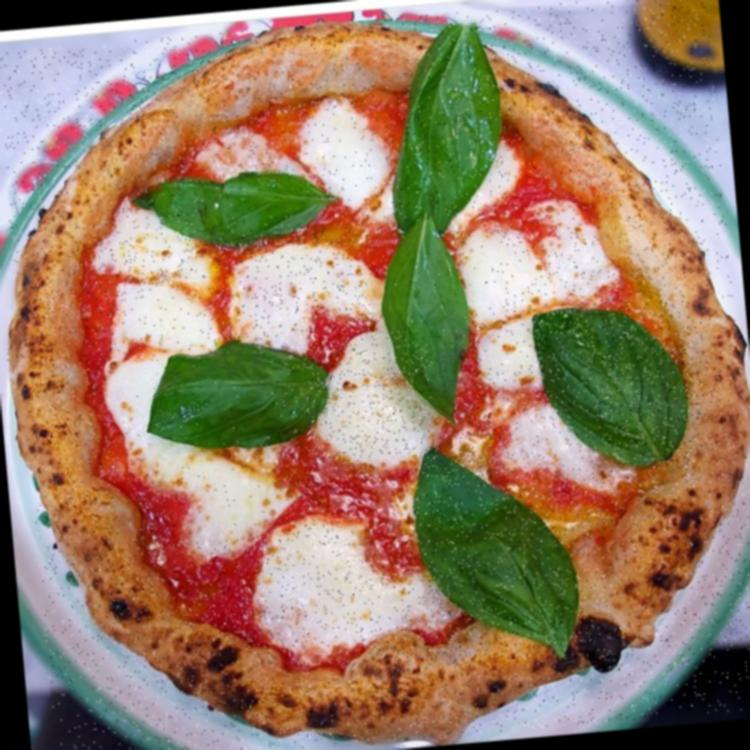Basil: (409, 438, 593, 667), (534, 296, 704, 475), (374, 13, 503, 240), (135, 334, 342, 456), (374, 216, 474, 417), (128, 166, 340, 244)
Cheese: (105, 352, 286, 548), (248, 516, 427, 653), (302, 330, 436, 462), (234, 235, 366, 340), (460, 217, 603, 306), (103, 275, 228, 362), (91, 212, 200, 300), (509, 404, 604, 492), (310, 120, 394, 202), (474, 315, 534, 386)
Pizza: (0, 0, 750, 750)
